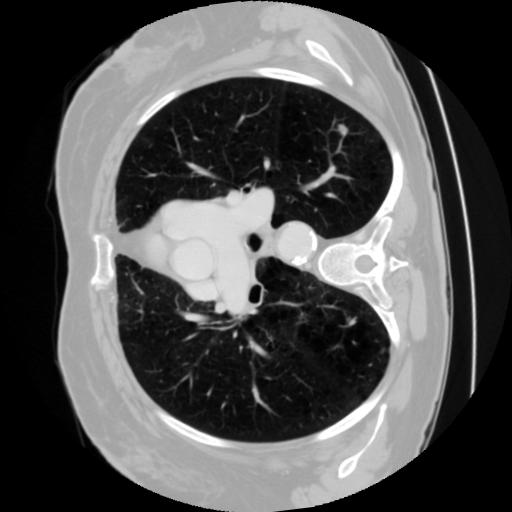nodule: (334, 123, 351, 140)
